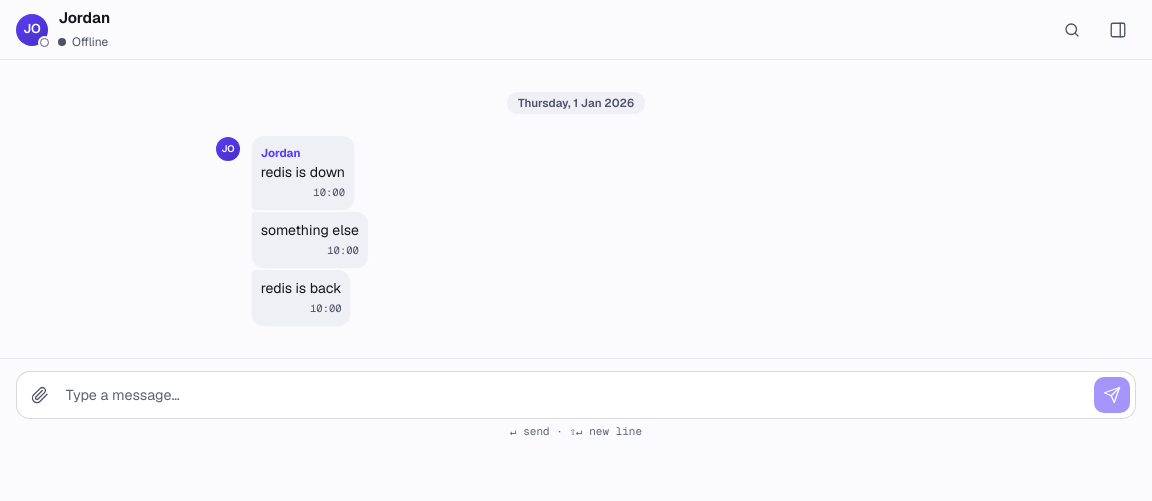
Test: ConversationRoom — searching this conversation › says how many it can step through when there are more
Click the button named "Search this conversation" at coordinates (1072, 30), box [1054,12,1090,48]
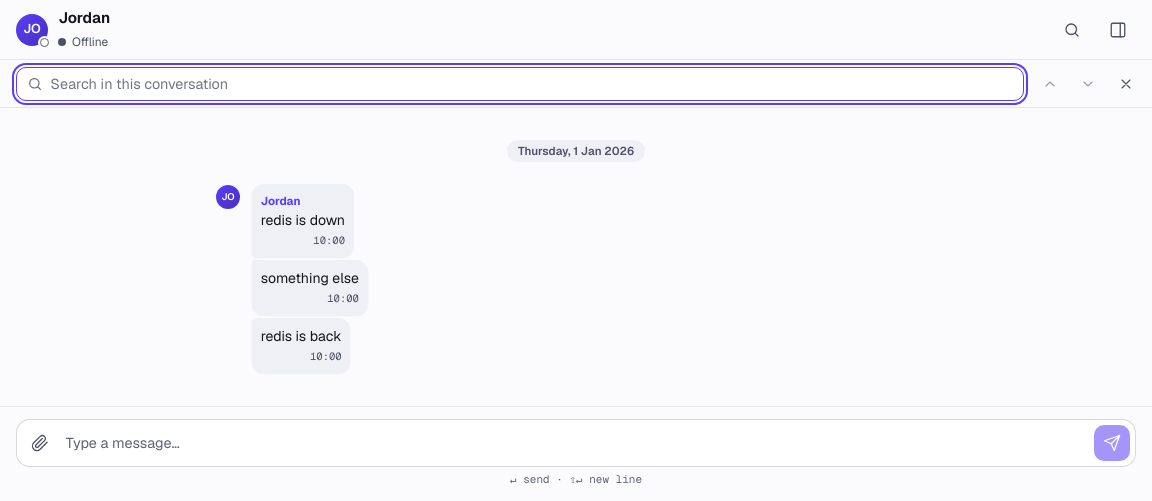
Type "redis" into the search field labelled "Search in this conversation" at coordinates (520, 84), box [16,66,1024,100]
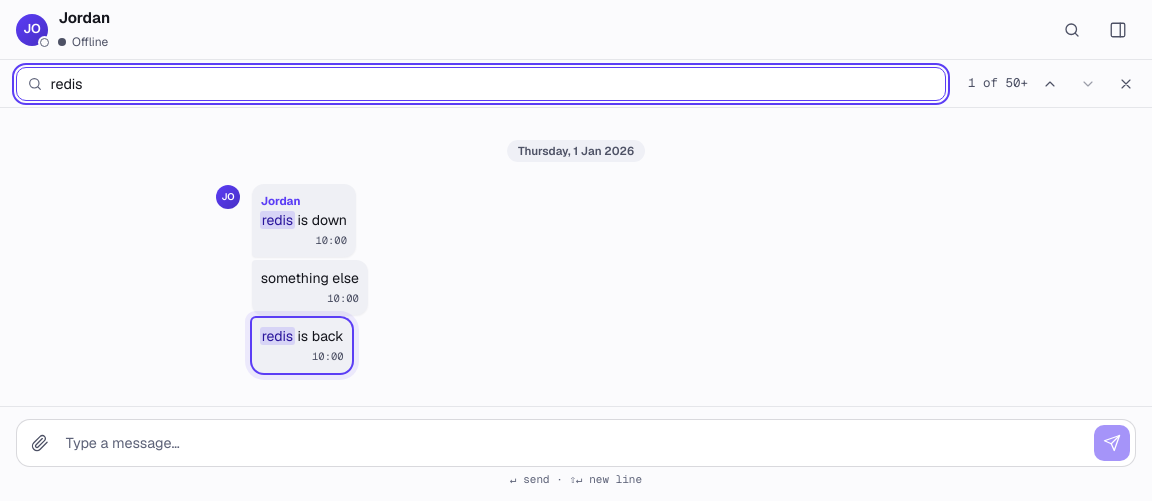
Check: the text "1 of 50+" is shown, box [968,74,1028,91]
